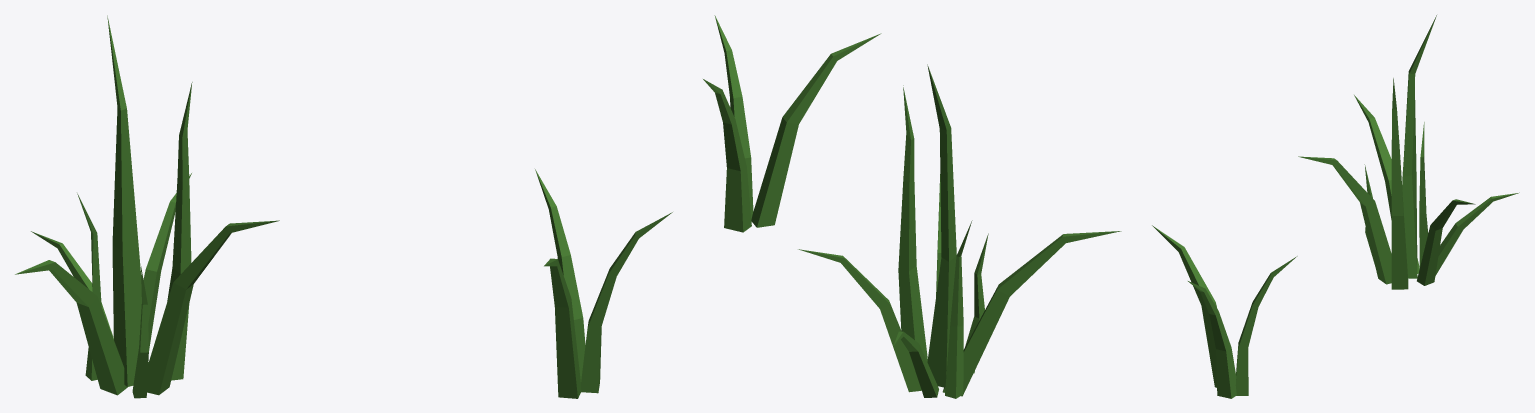
File: Planta_Cesped_009.fbx
3 renders of one model, left to right at view 1: azimuth 30°, elevation 25°; view 2: azimuth 150°, elevation 25°; view 3: azimuth 270°, elevation 25°, orthographic. The views are drawn at different scales.
Visible parts, largest first — view 1: Grass2; view 2: Grass2; view 3: Grass2.
Part boxes in pixels (x1,y1,x2,y2): Grass2: [15, 15, 672, 398]; Grass2: [703, 15, 1121, 398]; Grass2: [1152, 15, 1519, 398].
Size of the model in its own units: 29.92 by 18.81 by 23.85.
Materials: 1 (1 with a texture image).
